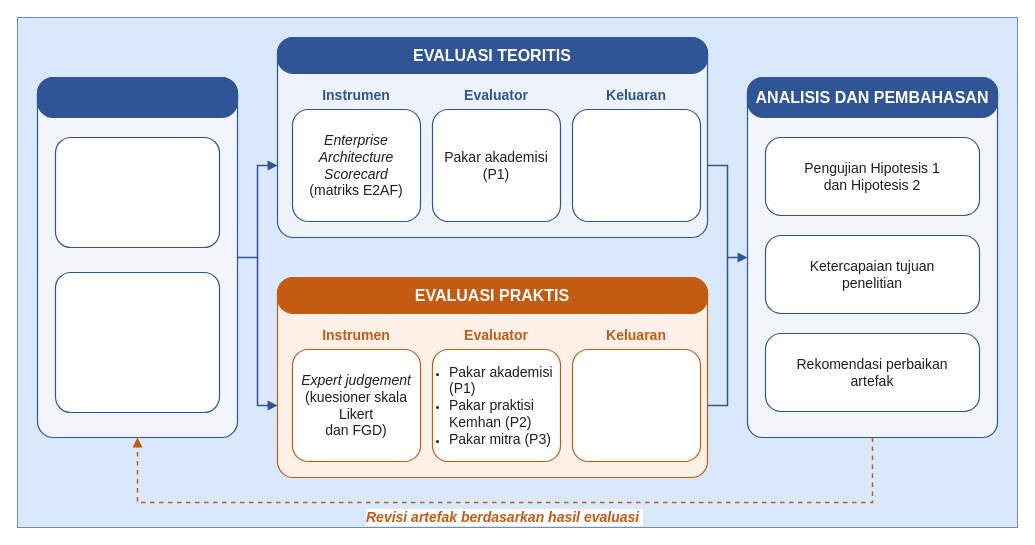
The diagram is 1035 pixels wide and 545 high, and some of its shapes have lost their labels. Here are the shapes that lost their labels. From the top down, the centre of each, then its label:
At [137,97]: "ARTEFAK PENELITIAN".
At [636,165]: "Skor kelengkapan per level abstraksi dan aspek arsitektur".
At [137,192]: "Framework TOGAF Pertahanan Indonesia".
At [137,342]: "Arsitektur Transformasi Digital Kemhan RI dan Rencana Migrasi 2026–2030".
At [636,405]: "Skor kelayakan, validasi prioritas, dan masukan pakar".
